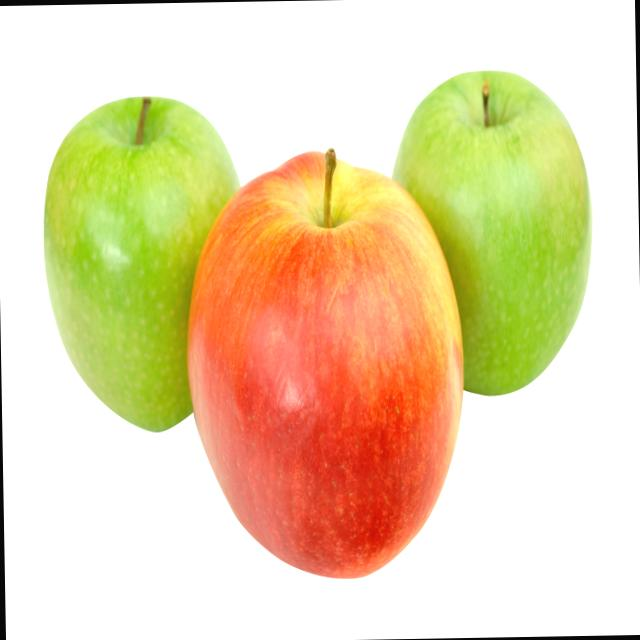alpple: (184, 135, 464, 584), (41, 89, 248, 432), (394, 58, 590, 395)
